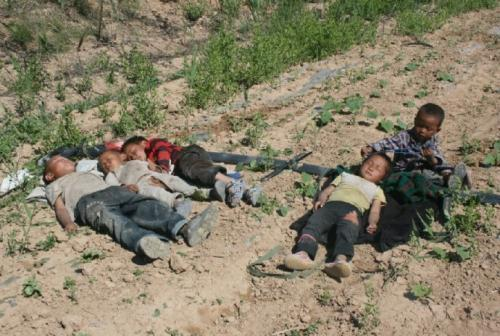Fall-Detected: (117, 127, 264, 207)
